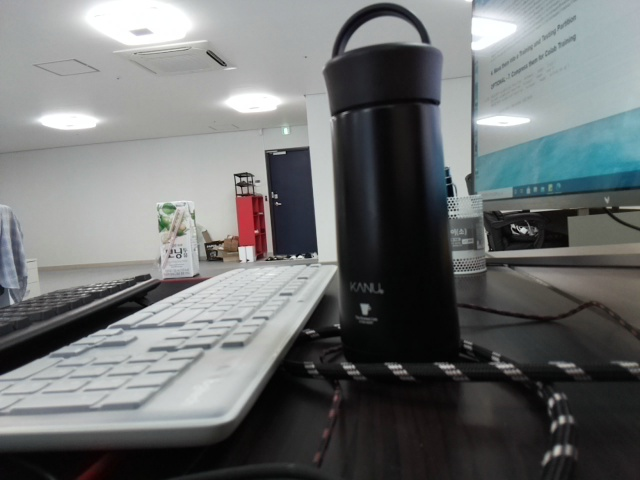Bottle: (308, 8, 478, 366)
